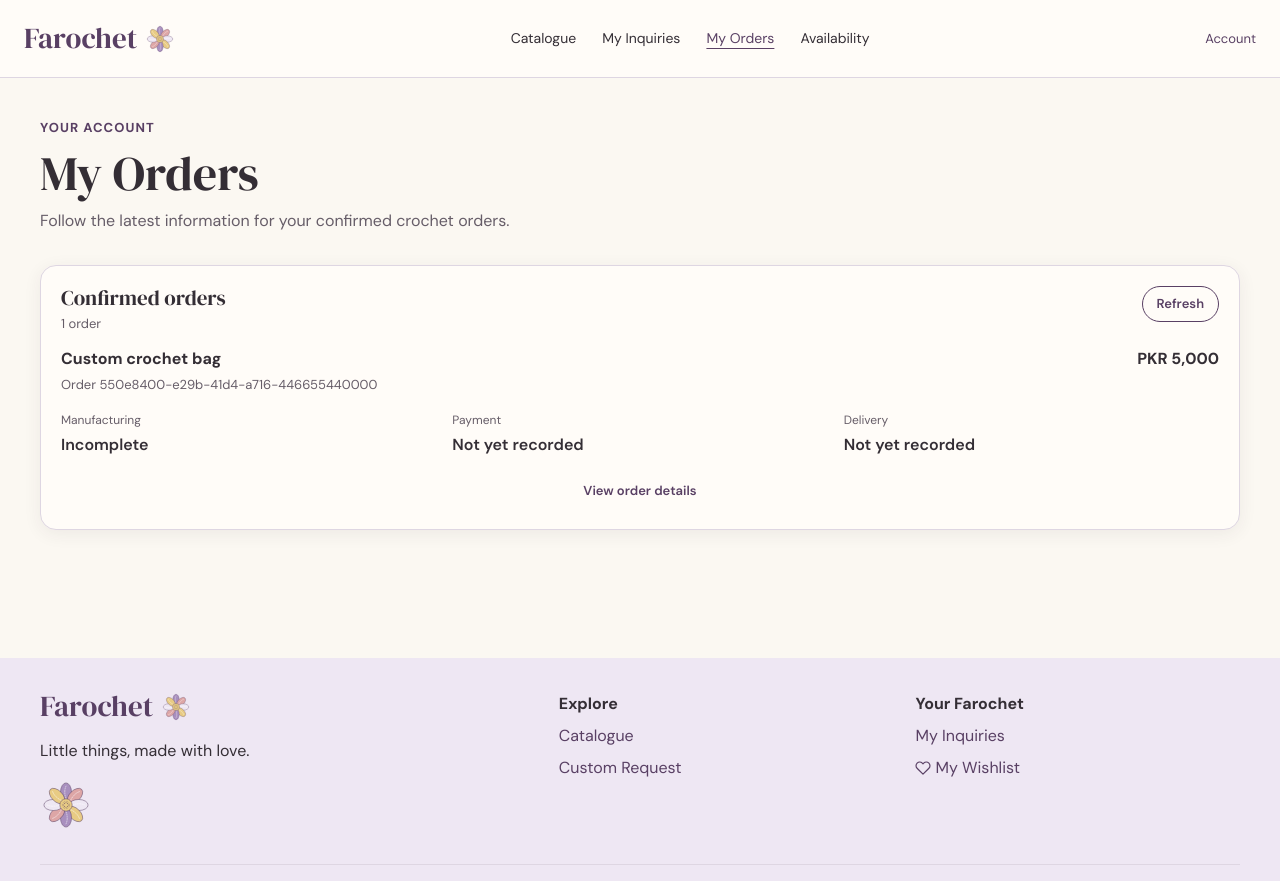
Customer order cancellation requests › does not render Raazia-only decision notes or price history
Click the button "View order details" at (640, 491), box [61,473,1219,509]
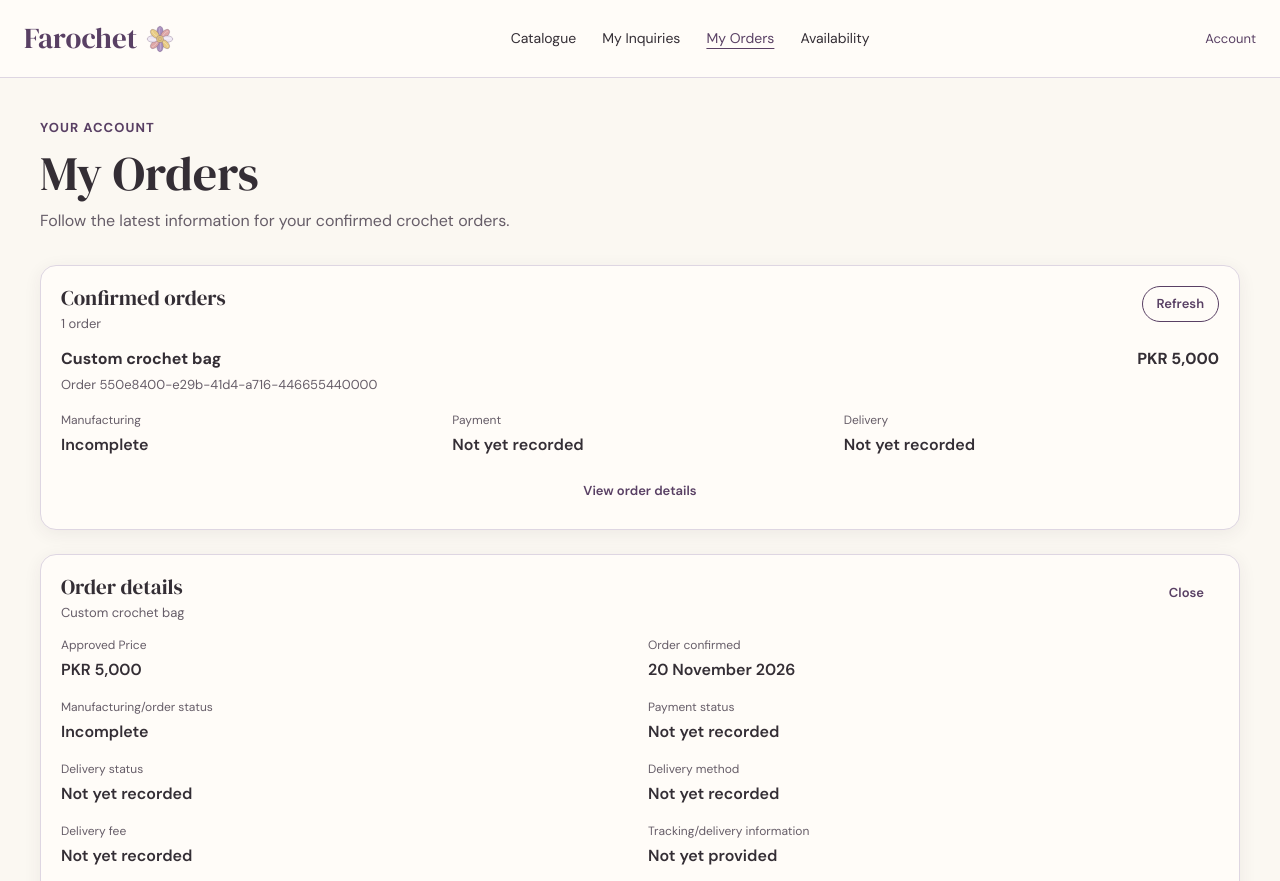
expect the heading "Order details" is shown: met, box [61,575,184,599]
